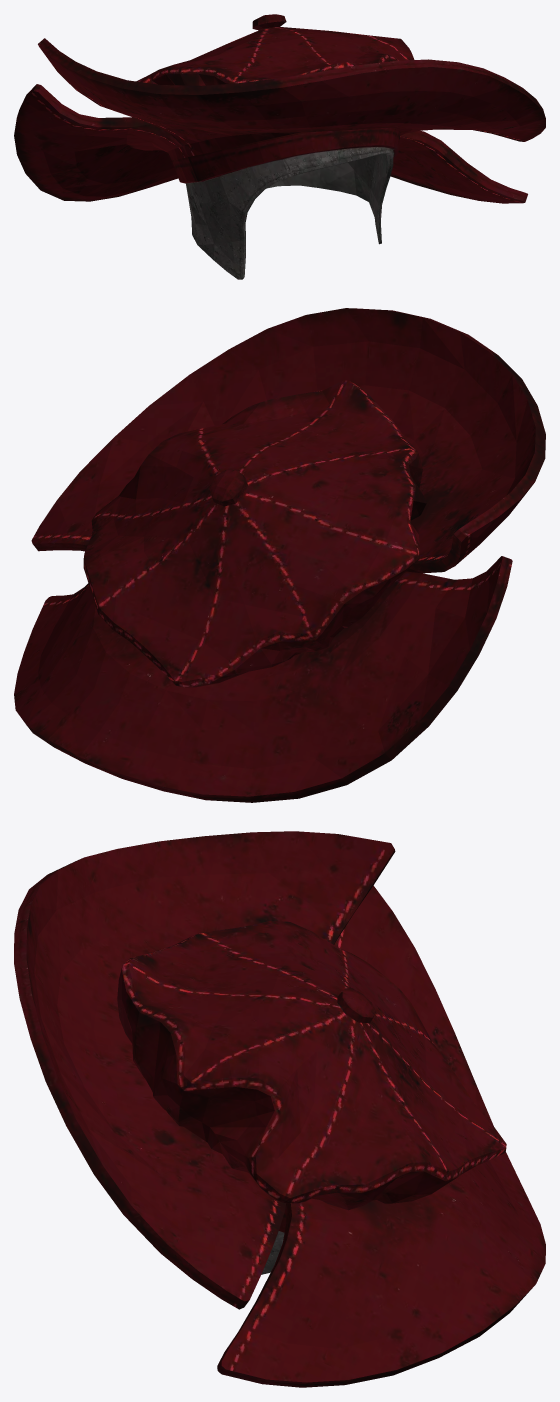
File: DUZYKAPELUSZ2.glb
3 views of the same model, one above another, from view 1: azimuth 30°, elevation 25°; view 2: azimuth 150°, elevation 25°; view 3: azimuth 270°, elevation 25° (orthographic). The views are drawn at different scales.
Parts seen in each view (by area): view 1: DUZYKAPELUSZ2; view 2: DUZYKAPELUSZ2; view 3: DUZYKAPELUSZ2.
Part boxes in pixels (box(x1,y1,x2,y2)): DUZYKAPELUSZ2: box(14, 14, 545, 279); DUZYKAPELUSZ2: box(14, 308, 545, 802); DUZYKAPELUSZ2: box(14, 831, 545, 1387).
Size of the model in its own units: 0.5251 by 0.302 by 0.4202.
1 material, 1 textured.
